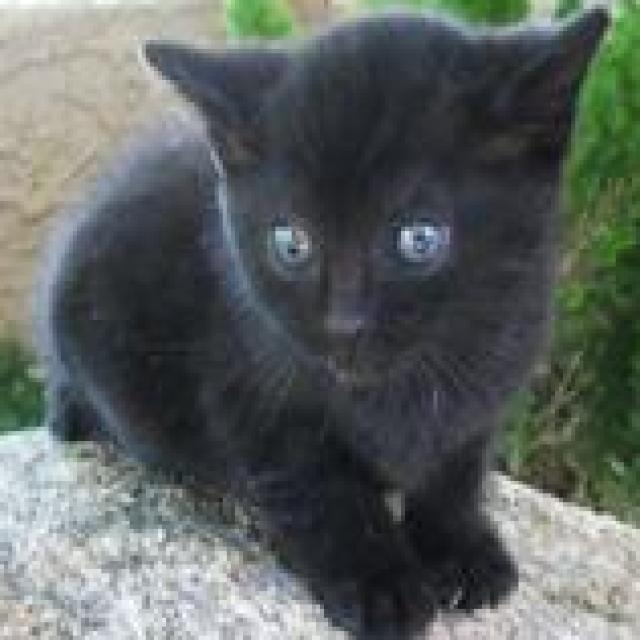Bombay: (37, 0, 608, 640)
